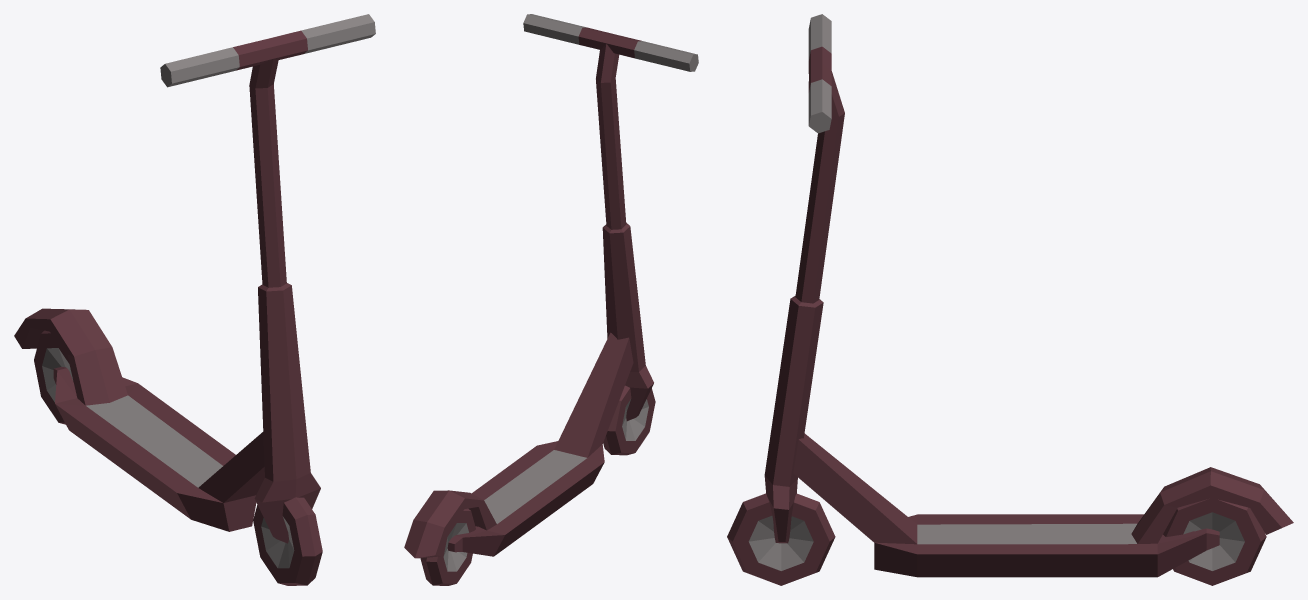
File: scooter-kick.fbx
The picture shows the model from 3 angles, left to right: view 1: azimuth 30°, elevation 25°; view 2: azimuth 150°, elevation 25°; view 3: azimuth 270°, elevation 25°; orthographic projection. The views are drawn at different scales.
Parts seen in each view (by area): view 1: scooter-kick; view 2: scooter-kick; view 3: scooter-kick.
Part boxes in pixels (bbox=[...]): scooter-kick: bbox=[14, 14, 375, 585]; scooter-kick: bbox=[404, 14, 698, 585]; scooter-kick: bbox=[727, 14, 1293, 585].
Size of the model in its own units: 0.4695 by 1.17 by 1.15.
